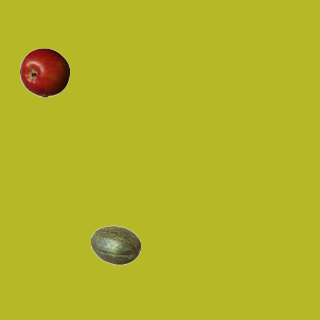Apple Braeburn: (19, 47, 69, 97)
Melon Piel de Sapo: (90, 220, 140, 270)
